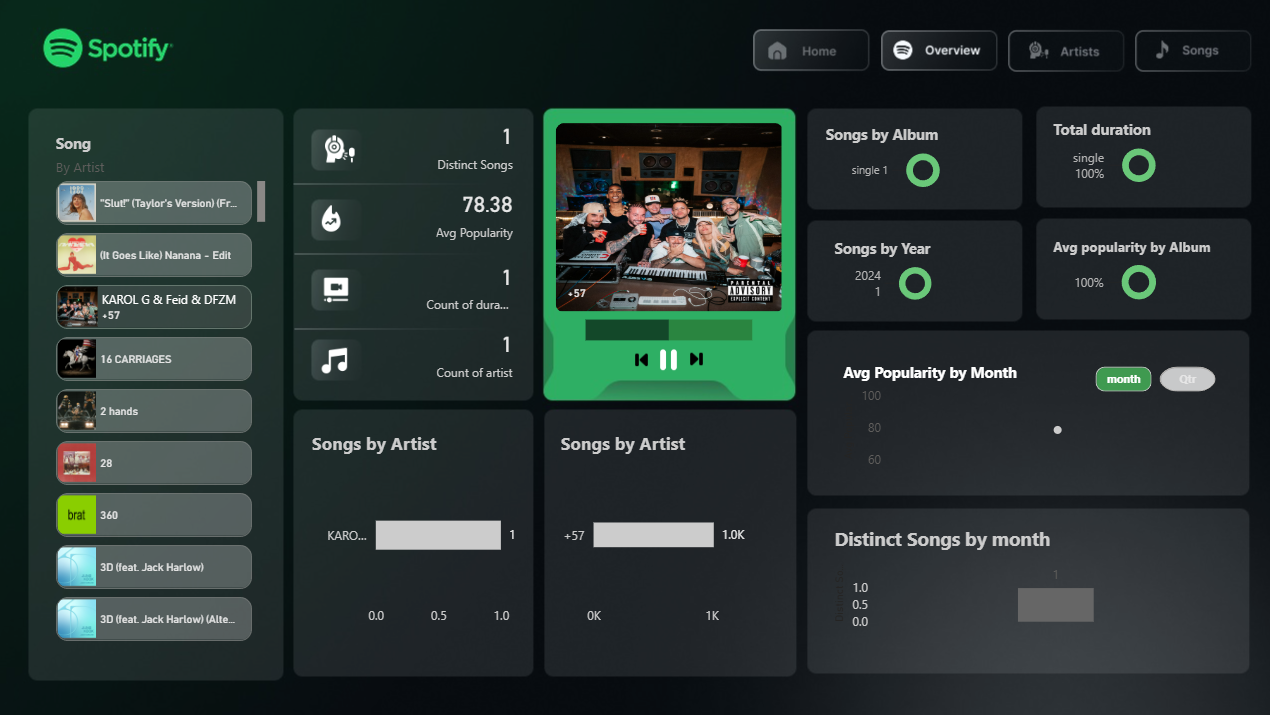

The page's visual inventory and layout, read from the dashboard file:
{"tool":"powerbi","page":{"name":"Overview","canvas":[1280,720],"ordinal":1},"visuals":[{"type":"clusteredBarChart","title":"Songs by Artist","fields":{"Y":["Top-50-World.Distinct Songs"],"Category":["Top-50-World.artist"]},"box":[310.4,433.1,222.1,202.5],"z":0},{"type":"clusteredBarChart","title":"Songs by Artist","fields":{"Y":["Sum(Top-50-World.popularity)"],"Category":["Top-50-World.song"]},"box":[558.3,433.1,227,202.5],"z":1000},{"type":"areaChart","title":"Avg Popularity by Month","fields":{"Y":["Top-50-World.Avg Popularity"],"Category":["Top-50-World.month"]},"box":[841.7,363.2,391.4,111.7],"z":2000},{"type":"advancedSlicerVisual","fields":{"Values":["sliceroption.sliceroption"]},"box":[1093.3,363.2,130.1,35.6],"z":3000},{"type":"donutChart","title":"Songs by Album","fields":{"Y":["Top-50-World.Distinct Songs"],"Category":["Top-50-World.album_type"]},"box":[823.3,126.4,204.9,72.4],"z":4000},{"type":"donutChart","title":"Total duration","fields":{"Y":["Top-50-World.Total Duration (hrs)"],"Category":["Top-50-World.album_type"]},"box":[1051.5,121.5,181.6,72.4],"z":5000},{"type":"donutChart","title":"Songs by Year","fields":{"Y":["Top-50-World.Distinct Songs"],"Category":["Top-50-World.Year"]},"box":[831.9,240.5,171.8,71.2],"z":6000},{"type":"donutChart","title":"Avg popularity by Album ","fields":{"Y":["Top-50-World.Avg Popularity"],"Category":["Top-50-World.album_type"]},"box":[1051.5,240.5,181.6,71.2],"z":7000},{"type":"clusteredColumnChart","fields":{"Category":["Top-50-World.month"],"Y":["Top-50-World.Distinct Songs"]},"box":[831.9,527.6,413.5,110.4],"z":8000},{"type":"cardVisual","fields":{"Data":["Top-50-World.Distinct Songs"]},"box":[413.5,115.3,119,71.2],"z":9000},{"type":"cardVisual","fields":{"Data":["Count(Top-50-World.artist)"]},"box":[412.3,323.9,120.2,69.9],"z":10000},{"type":"cardVisual","fields":{"Data":["Count(Top-50-World.duration_ms)"]},"box":[412.3,256.4,120.2,69.9],"z":11000},{"type":"cardVisual","fields":{"Data":["Top-50-World.Avg Popularity"]},"box":[413.5,184.1,119,69.9],"z":12000},{"type":"image","box":[315.3,344.8,45.4,35.6],"z":13000},{"type":"image","box":[320.2,131.3,45.4,39.3],"z":14000},{"type":"image","box":[320.2,200,36.8,40.5],"z":15000},{"type":"image","box":[317.8,272.4,43,39.3],"z":16000},{"type":"advancedSlicerVisual","title":"Song ","fields":{"Values":["Top-50-World.song"]},"box":[54,135,219.6,516.6],"z":17000},{"type":"advancedSlicerVisual","title":"Song ","fields":{"Values":["Top-50-World.song"]},"box":[532.5,119,278.5,200],"z":18000},{"type":"hundredPercentStackedBarChart","fields":{"Y":["Avg(Top-50-World.popularity)","Top-50-World.Avg Popularity"]},"box":[584,294.5,176.7,68.7],"z":19000},{"type":"image","box":[687.1,344.8,24.5,31.9],"z":20000},{"type":"image","box":[631.9,347.2,24.5,29.4],"z":21000},{"type":"image","box":[656.5,344.8,30.7,33.1],"z":22000},{"type":"actionButton","box":[758.3,29.9,117.8,40.5],"z":23000},{"type":"actionButton","box":[887.1,29.9,117.8,40.5],"z":24000},{"type":"actionButton","box":[1014.7,31.2,117.8,40.5],"z":25000},{"type":"actionButton","box":[1142.3,31.2,117.8,40.5],"z":26000}]}

Visuals, with their boxes in screenshot pixels (x1, y1, x2, y2), scaled from the page's 1280x720 canvas onto the 1270x715 screenshot:
"Songs by Artist" clusteredBarChart: {"left": 308, "top": 430, "right": 528, "bottom": 631}
"Songs by Artist" clusteredBarChart: {"left": 554, "top": 430, "right": 779, "bottom": 631}
"Avg Popularity by Month" areaChart: {"left": 835, "top": 361, "right": 1223, "bottom": 472}
advancedSlicerVisual - sliceroption.sliceroption: {"left": 1085, "top": 361, "right": 1214, "bottom": 396}
"Songs by Album" donutChart: {"left": 817, "top": 126, "right": 1020, "bottom": 197}
"Total duration" donutChart: {"left": 1043, "top": 121, "right": 1223, "bottom": 193}
"Songs by Year" donutChart: {"left": 825, "top": 239, "right": 996, "bottom": 310}
"Avg popularity by Album " donutChart: {"left": 1043, "top": 239, "right": 1223, "bottom": 310}
clusteredColumnChart - Top-50-World.month x Top-50-World.Distinct Songs: {"left": 825, "top": 524, "right": 1236, "bottom": 634}
cardVisual - Top-50-World.Distinct Songs: {"left": 410, "top": 114, "right": 528, "bottom": 185}
cardVisual - Count(Top-50-World.artist): {"left": 409, "top": 322, "right": 528, "bottom": 391}
cardVisual - Count(Top-50-World.duration_ms): {"left": 409, "top": 255, "right": 528, "bottom": 324}
cardVisual - Top-50-World.Avg Popularity: {"left": 410, "top": 183, "right": 528, "bottom": 252}
image: {"left": 313, "top": 342, "right": 358, "bottom": 378}
image: {"left": 318, "top": 130, "right": 363, "bottom": 169}
image: {"left": 318, "top": 199, "right": 354, "bottom": 239}
image: {"left": 315, "top": 271, "right": 358, "bottom": 310}
"Song " advancedSlicerVisual: {"left": 54, "top": 134, "right": 271, "bottom": 647}
"Song " advancedSlicerVisual: {"left": 528, "top": 118, "right": 805, "bottom": 317}
hundredPercentStackedBarChart - Avg(Top-50-World.popularity) x Top-50-World.Avg Popularity: {"left": 579, "top": 292, "right": 755, "bottom": 361}
image: {"left": 682, "top": 342, "right": 706, "bottom": 374}
image: {"left": 627, "top": 345, "right": 651, "bottom": 374}
image: {"left": 651, "top": 342, "right": 682, "bottom": 375}
actionButton: {"left": 752, "top": 30, "right": 869, "bottom": 70}
actionButton: {"left": 880, "top": 30, "right": 997, "bottom": 70}
actionButton: {"left": 1007, "top": 31, "right": 1124, "bottom": 71}
actionButton: {"left": 1133, "top": 31, "right": 1250, "bottom": 71}
